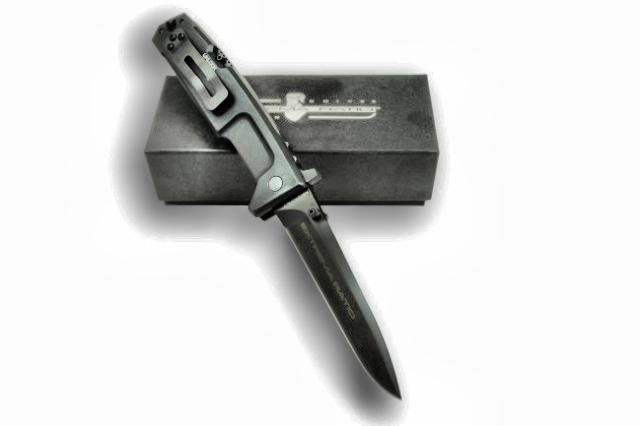knife: (240, 157, 412, 404)
